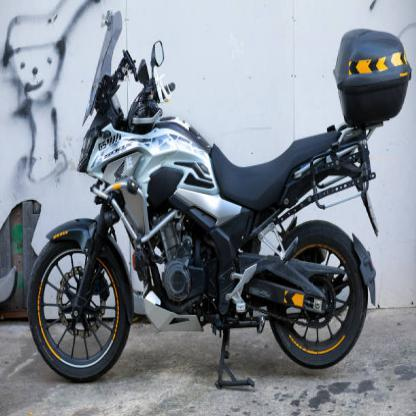Motorcycle: (19, 29, 415, 395)
